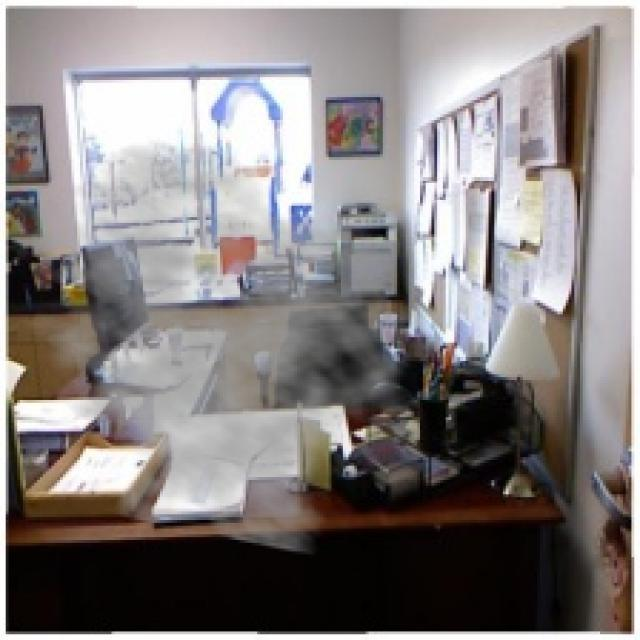Smoke: (2, 137, 428, 557)
